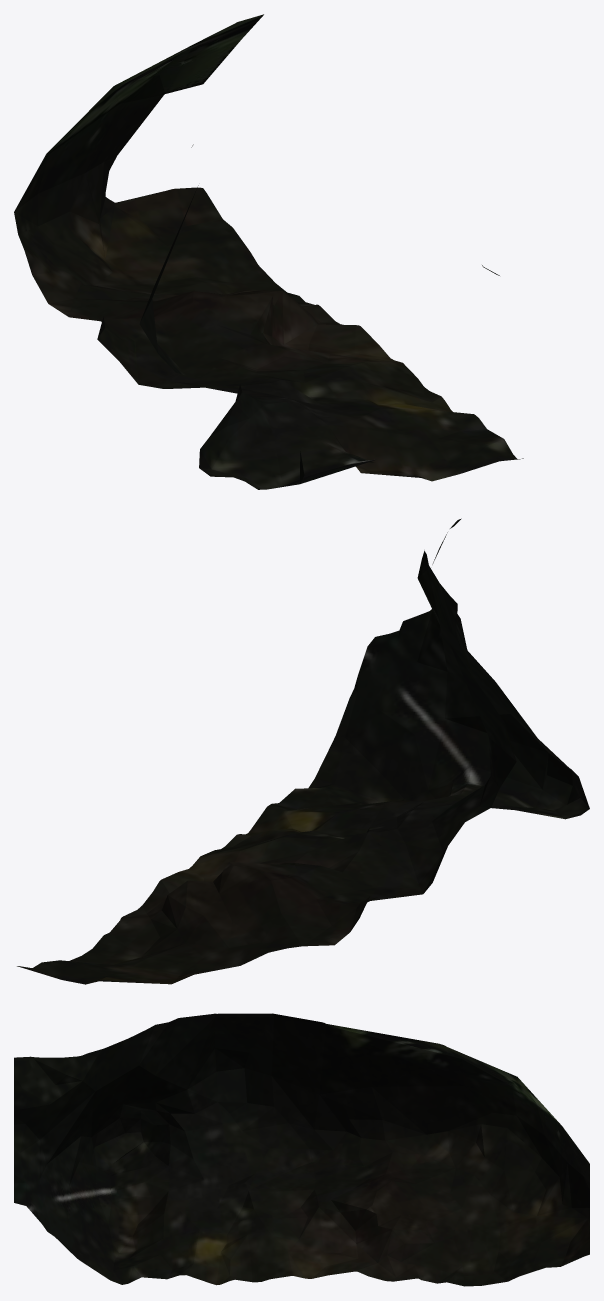
3 renders of one model, top to bottom at view 1: azimuth 30°, elevation 25°; view 2: azimuth 150°, elevation 25°; view 3: azimuth 270°, elevation 25°, orthographic. The views are drawn at different scales.
Bounding box in the file's own units: 0.764 × 0.6257 × 1.67.
2 materials, 2 textured.
